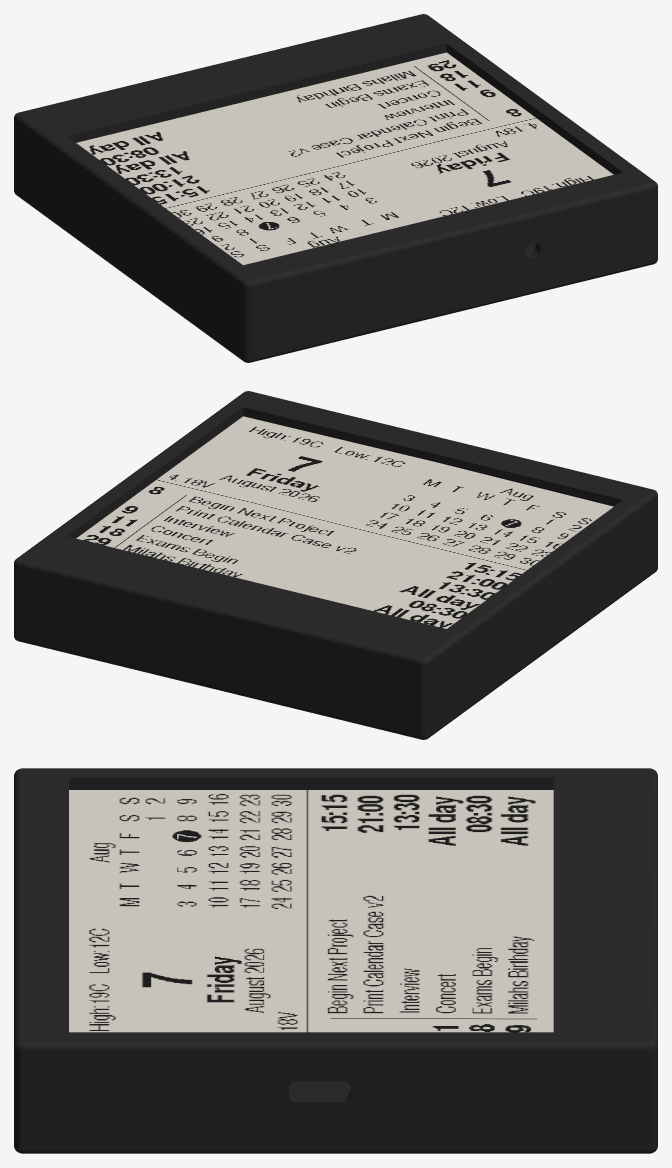
3 renders of one model, top to bottom at view 1: azimuth 30°, elevation 25°; view 2: azimuth 150°, elevation 25°; view 3: azimuth 270°, elevation 25°, orthographic. The views are drawn at different scales.
Parts seen in each view (by area): view 1: Body2.001, Body1, Body2; view 2: Body2.001, Body1, Body2; view 3: Body2.001, Body2, Body1.
Boxes of the visible parts, <box> form: Body2.001: <box>76,52,613,265</box>; Body1: <box>14,123,657,362</box>; Body2: <box>14,14,657,291</box>; Body2.001: <box>76,416,613,628</box>; Body1: <box>14,500,657,739</box>; Body2: <box>14,391,657,668</box>; Body2.001: <box>69,790,553,1032</box>; Body2: <box>14,768,657,1056</box>; Body1: <box>14,1053,657,1153</box>.
Bounding box in the file's own units: 0.0958 × 0.018 × 0.0938.
2 materials, 1 textured.
